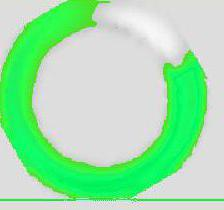ProgressBar: (1, 1, 223, 209)
